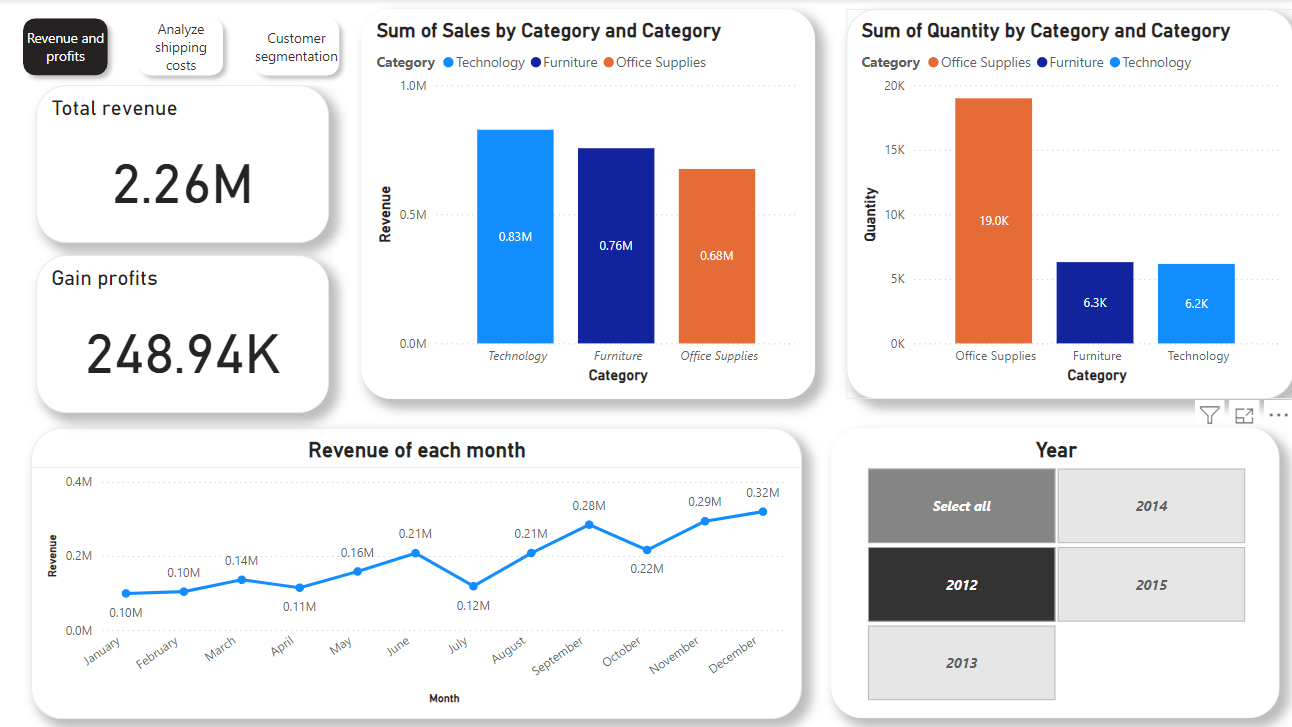

What the dashboard file says about the page in this screenshot:
{"tool":"powerbi","page":{"name":"Revenue and profits","canvas":[1280,720],"ordinal":0},"visuals":[{"type":"lineChart","title":"Revenue of each month","fields":{"Y":["Sum(Orders.Sales)"],"Category":["DateDimention.Month"]},"box":[30.6,419.4,753.3,284.9],"z":0},{"type":"card","title":"Total revenue","fields":{"Values":["Sum(Orders.Sales)"]},"box":[35.5,84.4,286.1,154.1],"z":1000},{"type":"columnChart","fields":{"Category":["Orders.Category"],"Y":["Sum(Orders.Sales)"],"Series":["Orders.Category"]},"box":[353.8,10,443.8,381.2],"z":2000},{"type":"columnChart","fields":{"Y":["Sum(Orders.Quantity)"],"Category":["Orders.Category"],"Series":["Orders.Category"]},"box":[827.5,10,438.8,381.2],"z":3000},{"type":"slicer","title":"Year","fields":{"Values":["DateDimention.Year"]},"box":[813.8,420,438.8,283.8],"z":4000},{"type":"pageNavigator","box":[13.5,9.8,328.9,74],"z":5000},{"type":"card","title":"Gain profits","fields":{"Values":["Sum(Orders.Profit)"]},"box":[35.5,250.7,286.1,154.1],"z":6000}]}

Visuals, with their boxes in screenshot pixels (x1, y1, x2, y2), scaled from the page's 1280x720 canvas onto the 1292x727 screenshot:
"Revenue of each month" lineChart: 31 423 791 711
"Total revenue" card: 36 85 325 241
columnChart - Orders.Category x Sum(Orders.Sales): 357 10 805 395
columnChart - Sum(Orders.Quantity) x Orders.Category: 835 10 1278 395
"Year" slicer: 821 424 1264 711
pageNavigator: 14 10 346 85
"Gain profits" card: 36 253 325 409
